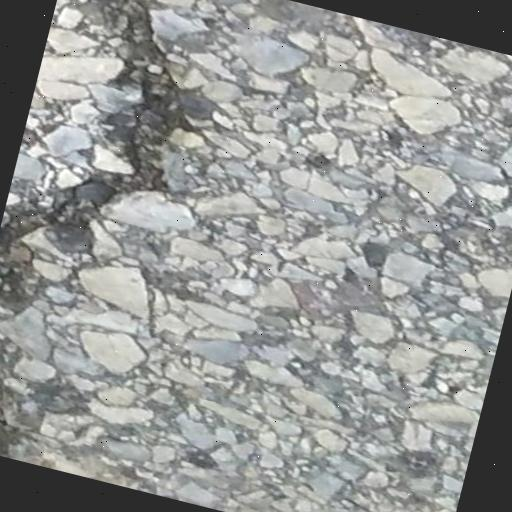spalling: (0, 0, 213, 454)
